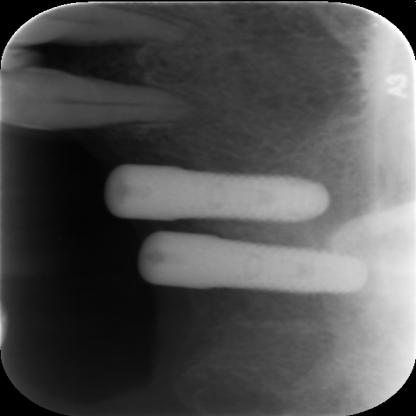Bego: (178, 228, 369, 299), (158, 164, 332, 222)
